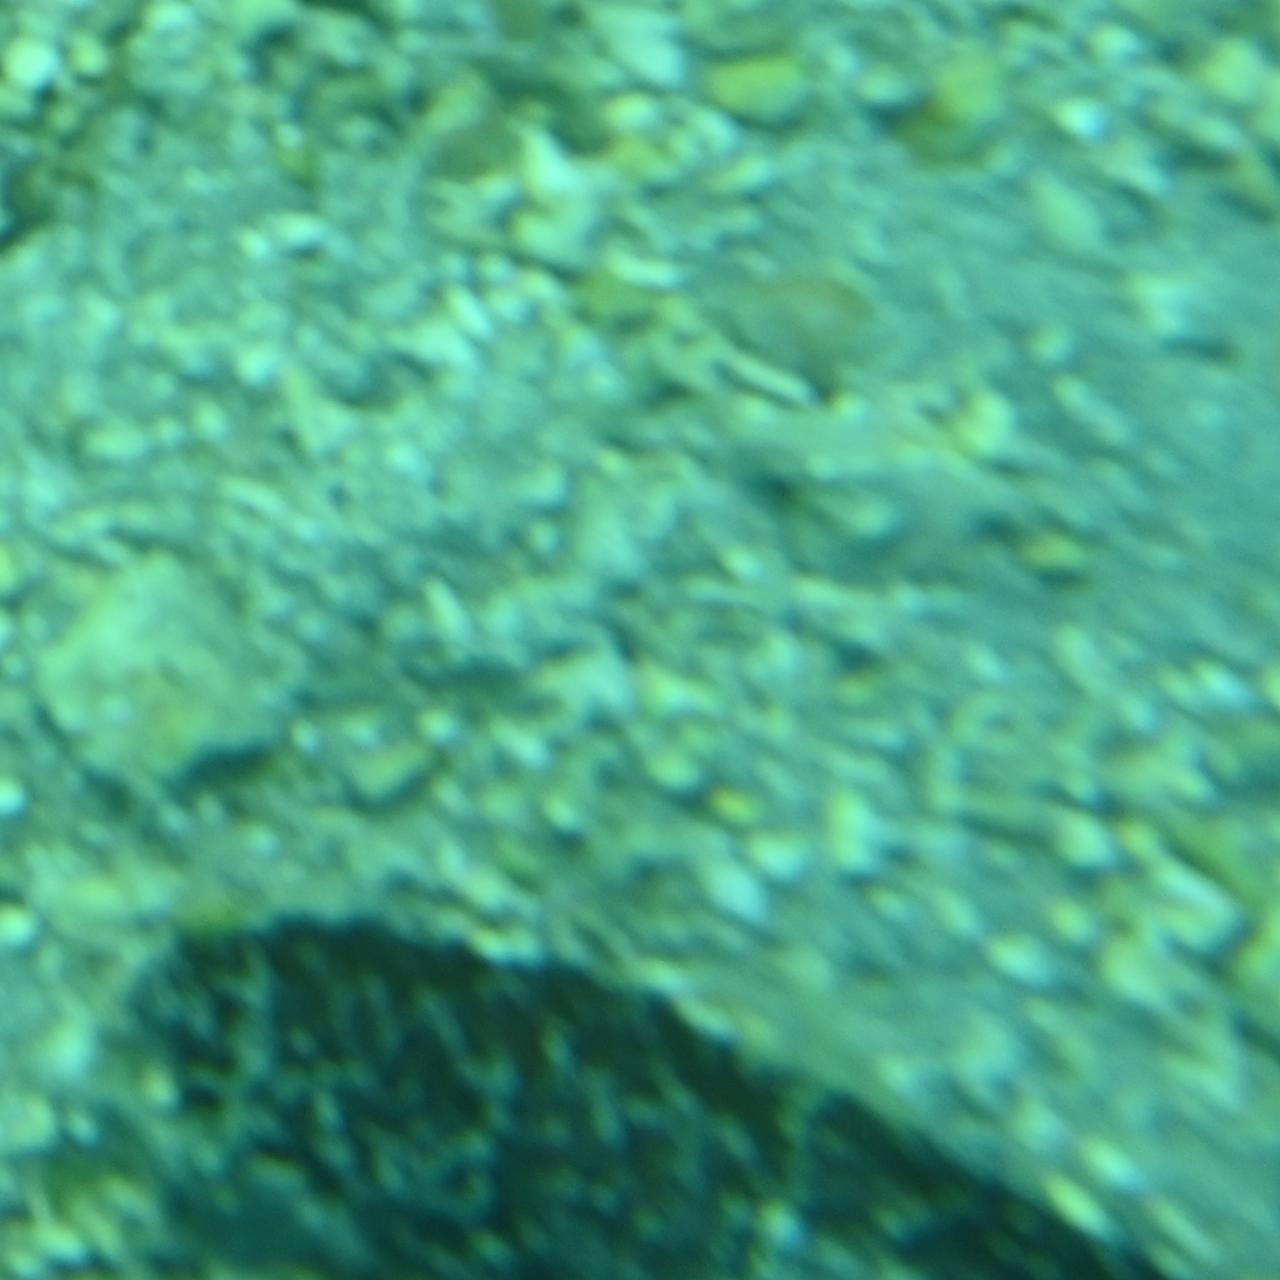Holothuria tubulosa: (132, 915, 1148, 1279)
